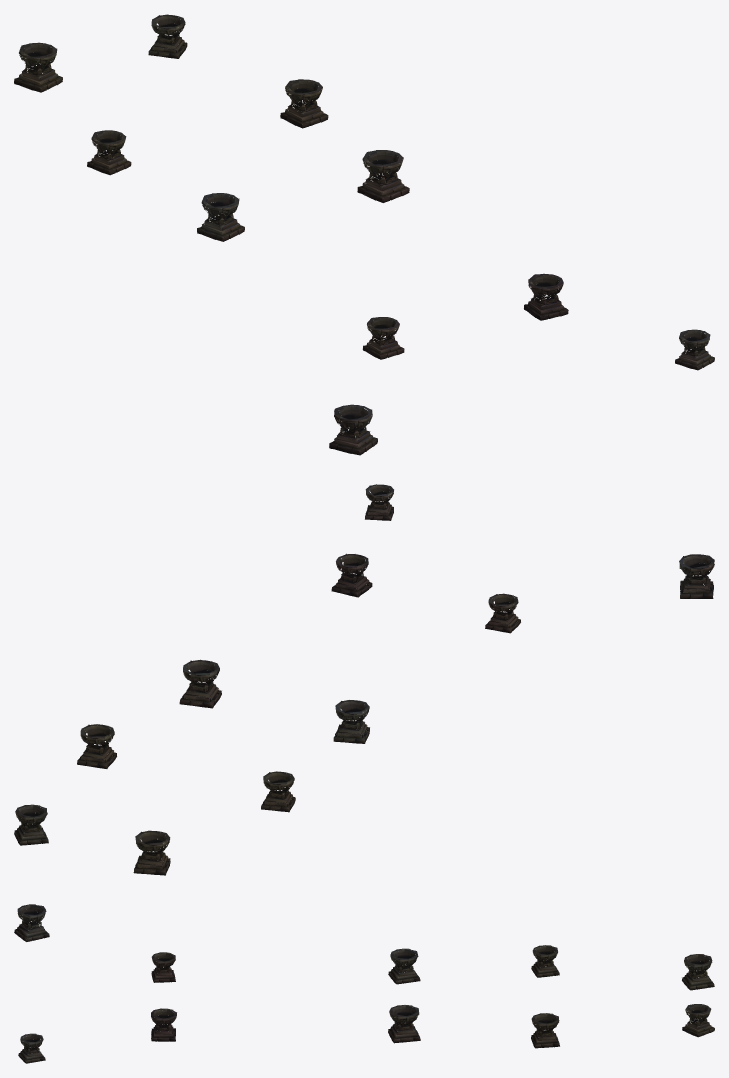
File: dg_brazier.glb
3 renders of one model, top to bottom at view 1: azimuth 30°, elevation 25°; view 2: azimuth 150°, elevation 25°; view 3: azimuth 270°, elevation 25°, orthographic. The views are drawn at different scales.
Visible parts, largest first — view 1: COL_DGP_BRAZIER; view 2: COL_DGP_BRAZIER; view 3: COL_DGP_BRAZIER.
Part boxes in pixels (left/top/right/bottom): COL_DGP_BRAZIER: left=14, top=14, right=714, bottom=455; COL_DGP_BRAZIER: left=14, top=484, right=714, bottom=875; COL_DGP_BRAZIER: left=14, top=904, right=714, bottom=1063.
Size of the model in its own units: 13.97 by 1.25 by 30.3.
1 material, 1 textured.
